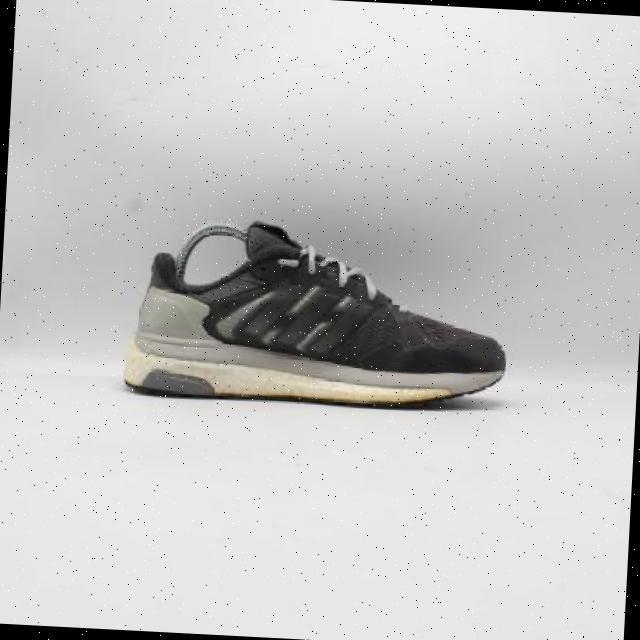Adidas: (231, 278, 367, 369)
